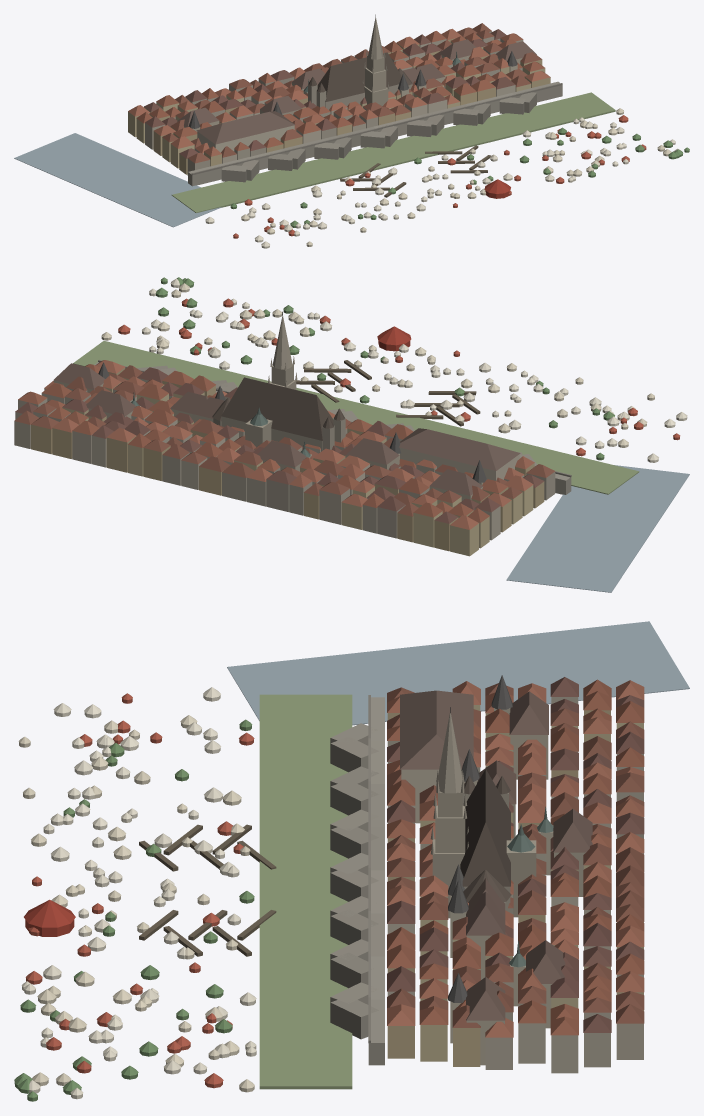
File: vienna_skyline.glb
3 renders of one model, top to bottom at view 1: azimuth 30°, elevation 25°; view 2: azimuth 150°, elevation 25°; view 3: azimuth 270°, elevation 25°, orthographic. The views are drawn at different scales.
Parts seen in each view (by area): view 1: vienna_skyline_roof, vienna_skyline_glacis, vienna_skyline_water, vienna_skyline_wall, vienna_skyline_house, vienna_skyline_tent, vienna_skyline_stone, vienna_skyline_earth, vienna_skyline_palace, vienna_skyline_church; view 2: vienna_skyline_roof, vienna_skyline_house, vienna_skyline_water, vienna_skyline_tent, vienna_skyline_glacis, vienna_skyline_stone, vienna_skyline_earth, vienna_skyline_wall, vienna_skyline_palace, vienna_skyline_church; view 3: vienna_skyline_roof, vienna_skyline_glacis, vienna_skyline_tent, vienna_skyline_water, vienna_skyline_wall, vienna_skyline_house, vienna_skyline_stone, vienna_skyline_church, vienna_skyline_earth, vienna_skyline_palace.
Boxes of the visible parts, x1=… form: vienna_skyline_roof: x1=128, y1=23, x2=550, y2=163; vienna_skyline_glacis: x1=171, y1=92, x2=615, y2=212; vienna_skyline_water: x1=14, y1=133, x2=222, y2=227; vienna_skyline_wall: x1=188, y1=81, x2=562, y2=186; vienna_skyline_house: x1=128, y1=31, x2=550, y2=175; vienna_skyline_tent: x1=205, y1=108, x2=689, y2=248; vienna_skyline_stone: x1=308, y1=17, x2=411, y2=109; vienna_skyline_earth: x1=340, y1=145, x2=490, y2=197; vienna_skyline_palace: x1=197, y1=125, x2=294, y2=152; vienna_skyline_church: x1=177, y1=53, x2=536, y2=131; vienna_skyline_roof: x1=14, y1=360, x2=555, y2=529; vienna_skyline_house: x1=14, y1=367, x2=555, y2=556; vienna_skyline_water: x1=506, y1=465, x2=689, y2=592; vienna_skyline_tent: x1=101, y1=277, x2=687, y2=462; vienna_skyline_glacis: x1=73, y1=341, x2=639, y2=494; vienna_skyline_stone: x1=213, y1=316, x2=345, y2=451; vienna_skyline_earth: x1=296, y1=360, x2=480, y2=426; vienna_skyline_wall: x1=94, y1=360, x2=571, y2=494; vienna_skyline_palace: x1=400, y1=447, x2=519, y2=480; vienna_skyline_church: x1=53, y1=380, x2=482, y2=500; vienna_skyline_roof: x1=387, y1=675, x2=644, y2=1037; vienna_skyline_glacis: x1=259, y1=694, x2=352, y2=1089; vienna_skyline_tent: x1=14, y1=687, x2=256, y2=1101; vienna_skyline_water: x1=227, y1=621, x2=689, y2=725; vienna_skyline_wall: x1=330, y1=695, x2=384, y2=1065; vienna_skyline_house: x1=387, y1=697, x2=643, y2=1073; vienna_skyline_stone: x1=430, y1=713, x2=536, y2=918; vienna_skyline_church: x1=450, y1=708, x2=585, y2=1065; vienna_skyline_earth: x1=139, y1=824, x2=276, y2=956; vienna_skyline_palace: x1=401, y1=769, x2=438, y2=823.
Size of the model in its own units: 417 by 82.9 by 248.
